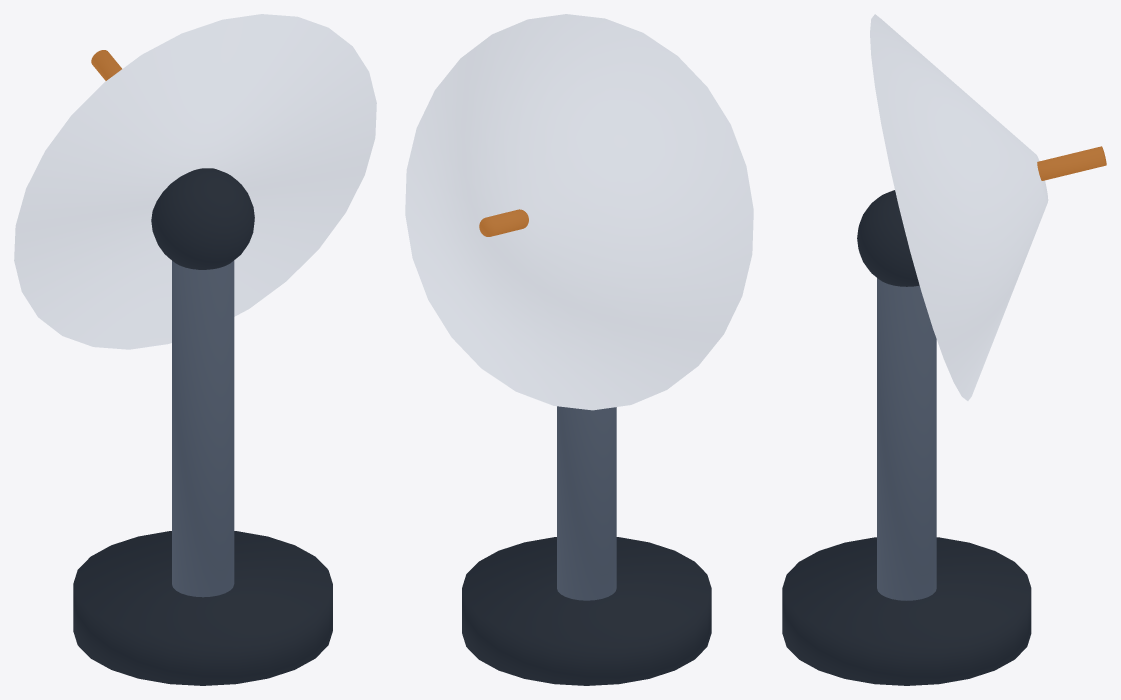
Rendered from antena.glb.
3 renders of one model, left to right at view 1: azimuth 30°, elevation 25°; view 2: azimuth 150°, elevation 25°; view 3: azimuth 270°, elevation 25°, orthographic. The views are drawn at different scales.
Parts seen in each view (by area): view 1: Cone, Cylinder.057, Cylinder.058, Sphere.019, Cylinder.059; view 2: Cone, Cylinder.057, Cylinder.058, Cylinder.059; view 3: Cone, Cylinder.057, Cylinder.058, Sphere.019, Cylinder.059.
Boxes of the visible parts, left/top/right/bottom form: Cone: left=14, top=14, right=376, bottom=349; Cylinder.057: left=73, top=531, right=332, bottom=685; Cylinder.058: left=172, top=260, right=234, bottom=597; Sphere.019: left=151, top=168, right=254, bottom=269; Cylinder.059: left=91, top=50, right=121, bottom=80; Cone: left=405, top=14, right=753, bottom=410; Cylinder.057: left=462, top=537, right=711, bottom=685; Cylinder.058: left=557, top=406, right=616, bottom=600; Cylinder.059: left=479, top=209, right=528, bottom=236; Cone: left=870, top=14, right=1048, bottom=400; Cylinder.057: left=782, top=537, right=1031, bottom=685; Cylinder.058: left=877, top=278, right=936, bottom=600; Sphere.019: left=857, top=190, right=919, bottom=286; Cylinder.059: left=1037, top=146, right=1106, bottom=180.
Bounding box in the file's own units: 1.6 × 2.66 × 1.3.
